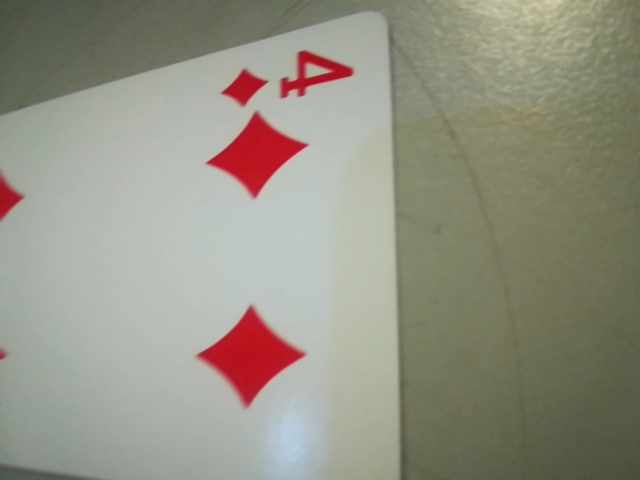fk 4: (215, 50, 364, 108)
